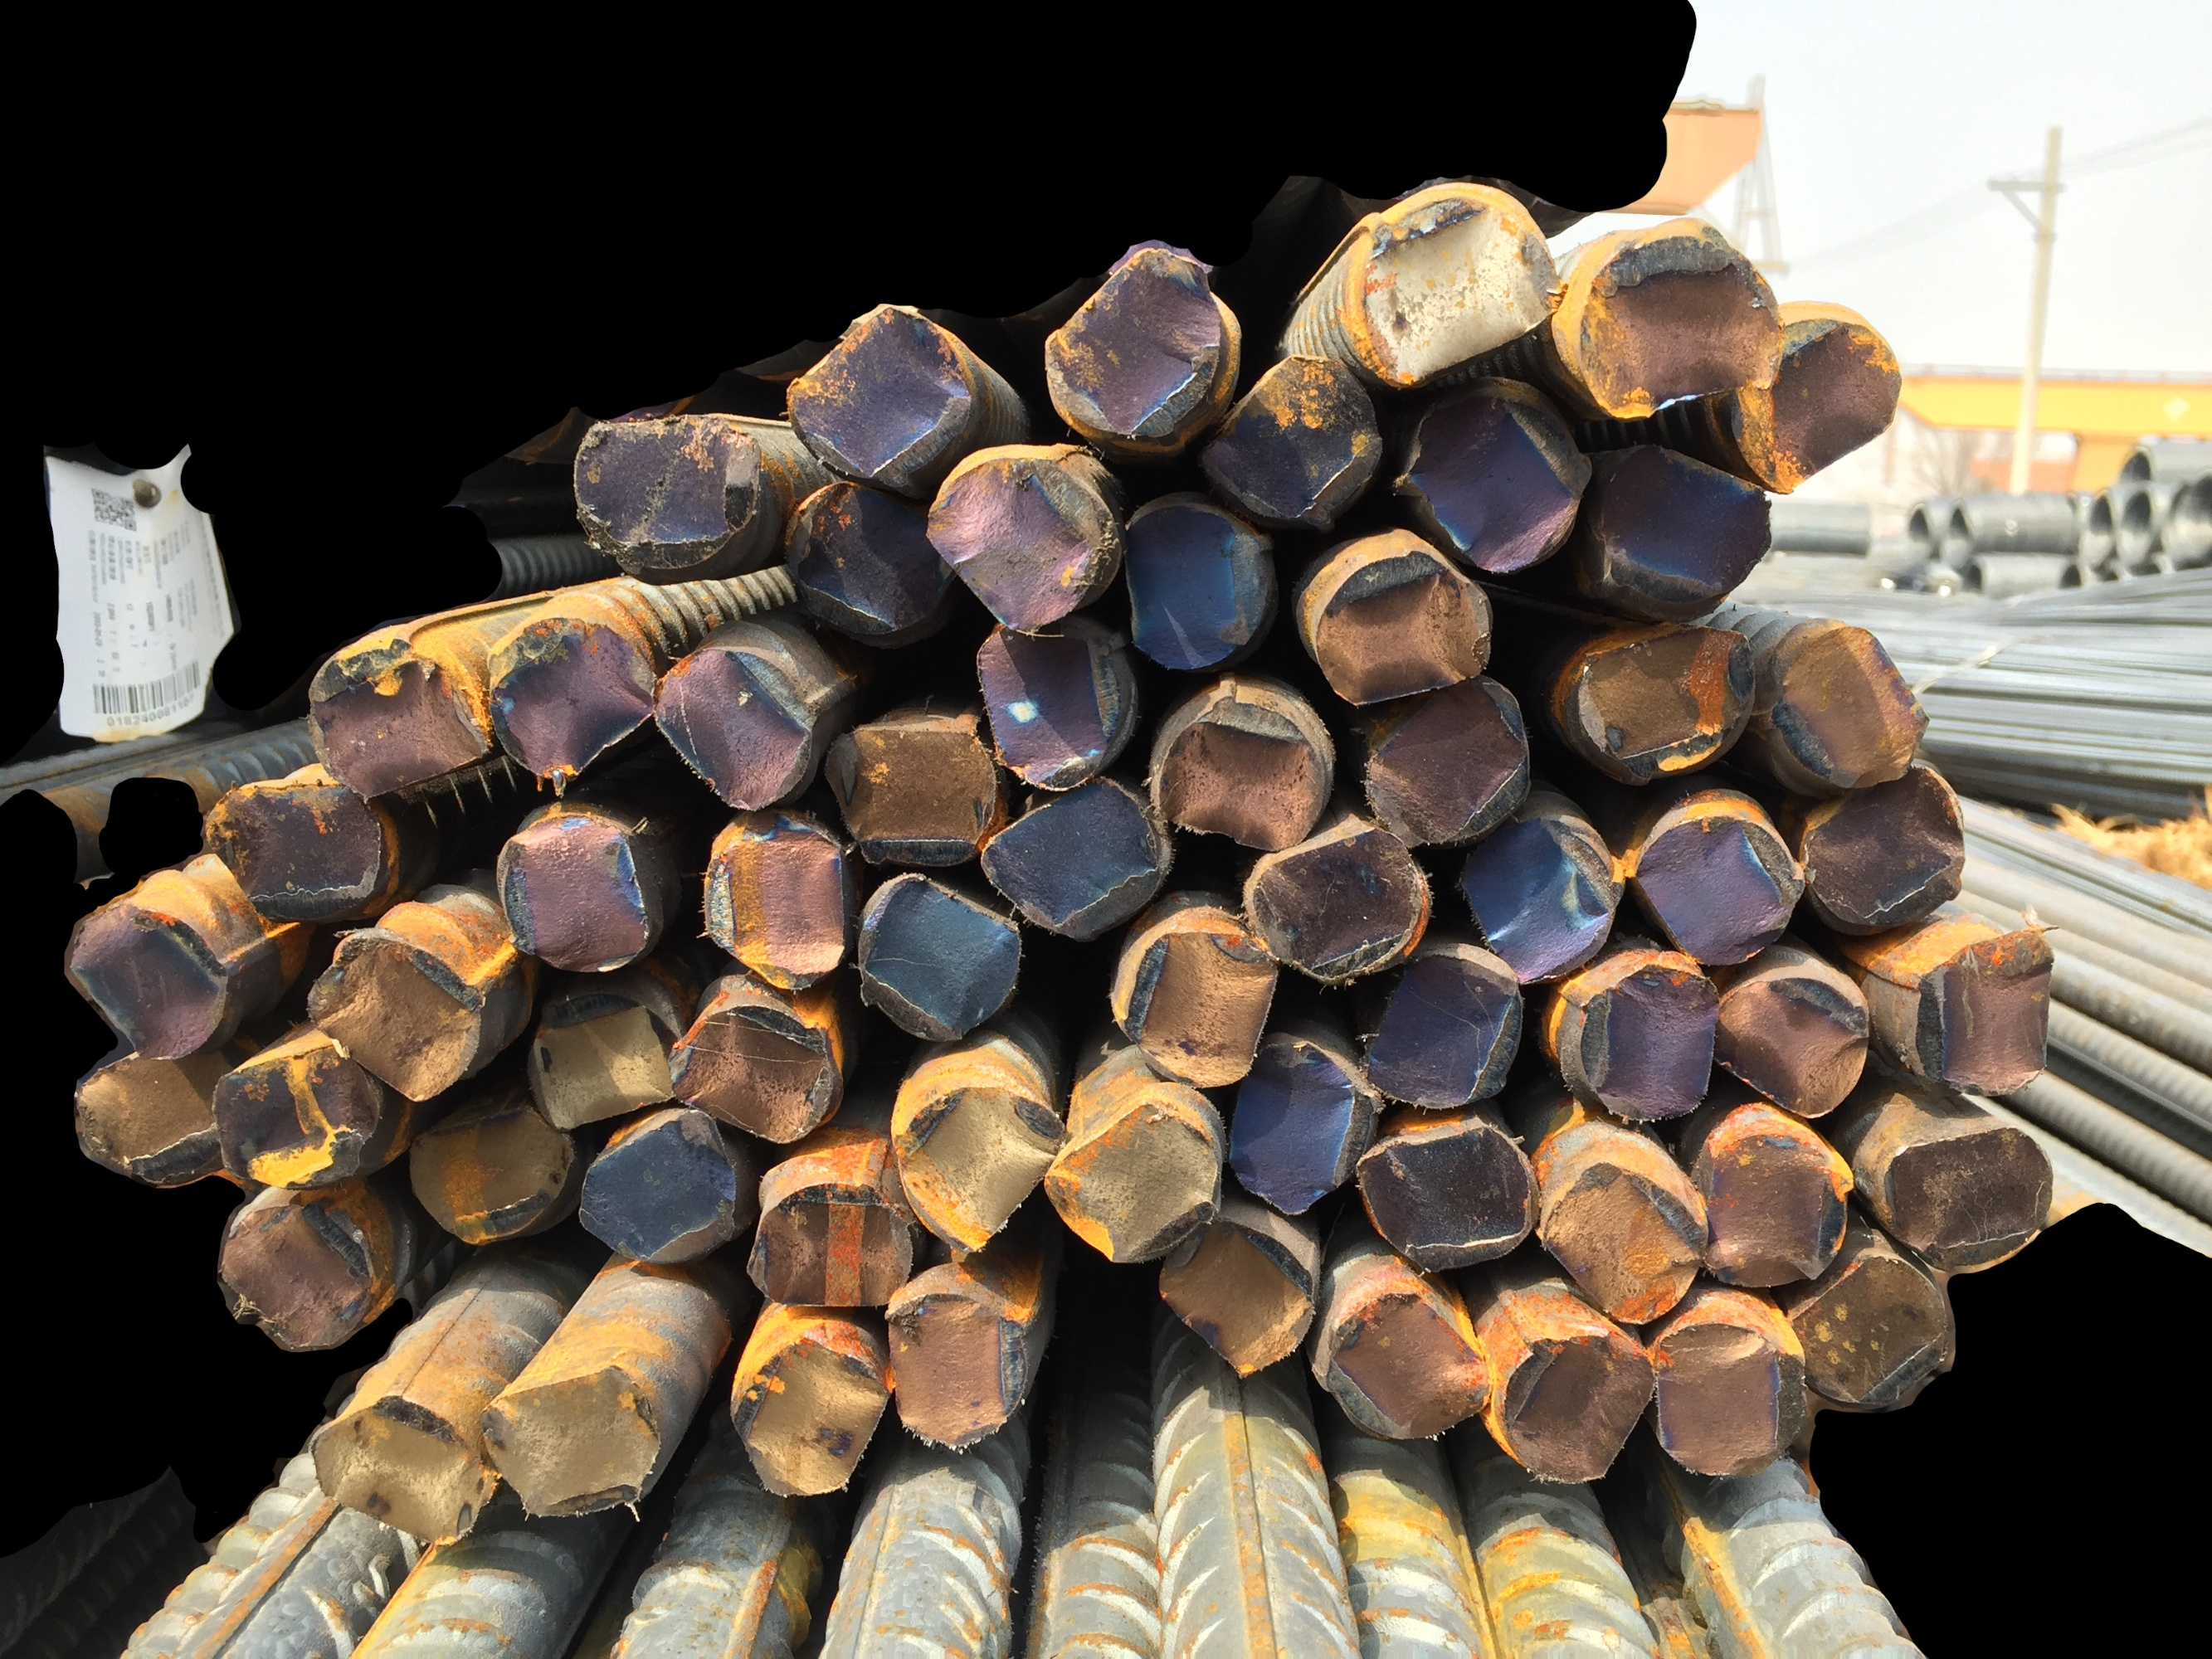rebar: (1348, 166, 1566, 393), (1579, 216, 1789, 431), (1400, 367, 1596, 572), (1033, 249, 1230, 445), (918, 440, 1111, 635), (1037, 1090, 1228, 1271), (891, 1081, 1077, 1262), (566, 411, 772, 576), (845, 869, 1028, 1052), (479, 607, 661, 789), (1631, 1303, 1810, 1488), (642, 635, 820, 821), (1304, 1280, 1493, 1455), (1355, 668, 1533, 850), (776, 301, 962, 478), (724, 1316, 896, 1506), (1206, 1020, 1363, 1228), (300, 930, 485, 1107), (1147, 1204, 1327, 1384), (1437, 809, 1619, 985), (1560, 621, 1761, 781), (305, 640, 498, 803), (815, 711, 1000, 880), (972, 607, 1139, 795), (1303, 546, 1493, 709), (1152, 685, 1329, 861), (1785, 1243, 1965, 1418), (1595, 438, 1776, 611), (1536, 1151, 1706, 1335), (1487, 1319, 1661, 1496), (1881, 1114, 2059, 1288), (1244, 817, 1430, 985), (481, 1366, 675, 1525), (1801, 757, 1968, 939), (777, 474, 955, 645), (1766, 625, 1936, 803), (696, 803, 855, 992), (1687, 1120, 1855, 1300), (1108, 498, 1271, 678), (1211, 348, 1370, 530), (1350, 1120, 1537, 1276), (207, 1192, 380, 1361), (572, 1102, 744, 1272), (309, 1396, 491, 1554), (1752, 308, 1903, 501), (1708, 955, 1876, 1128), (1562, 951, 1723, 1128), (66, 898, 234, 1068), (1633, 809, 1805, 972), (206, 1037, 378, 1195), (1911, 923, 2066, 1099), (397, 1102, 585, 1248), (672, 996, 844, 1155), (744, 1161, 917, 1318), (207, 770, 388, 918), (70, 1039, 245, 1191), (1357, 946, 1522, 1107), (491, 819, 651, 982), (880, 1285, 1028, 1460), (983, 788, 1163, 932), (519, 982, 685, 1136), (1130, 918, 1280, 1090)
